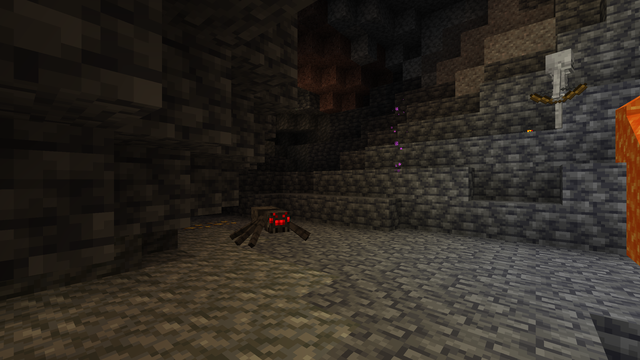araignees: (234, 203, 307, 249)
squelettes: (544, 47, 575, 131)
